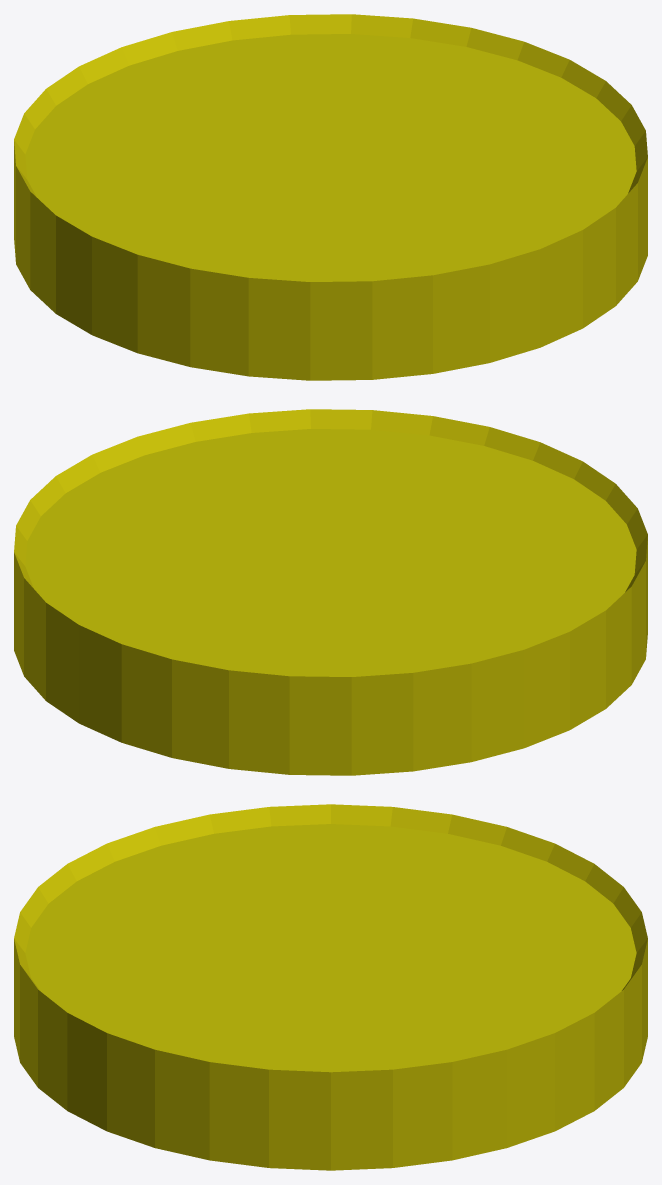
The model's file is Coin.fbx.
3 views of the same model, one above another, from view 1: azimuth 30°, elevation 25°; view 2: azimuth 150°, elevation 25°; view 3: azimuth 270°, elevation 25° (orthographic).
Visible parts, largest first — view 1: Cylinder; view 2: Cylinder; view 3: Cylinder.
Part boxes in pixels (bbox=[...]): Cylinder: bbox=[14, 14, 647, 380]; Cylinder: bbox=[14, 409, 647, 775]; Cylinder: bbox=[14, 804, 647, 1170].
Bounding box in the file's own units: 42.77 × 7.33 × 42.77.
